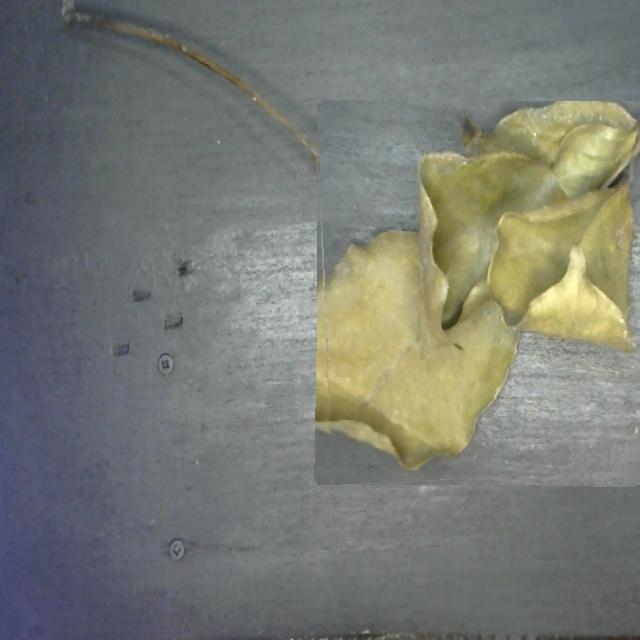biodegradable: (315, 101, 640, 486)
